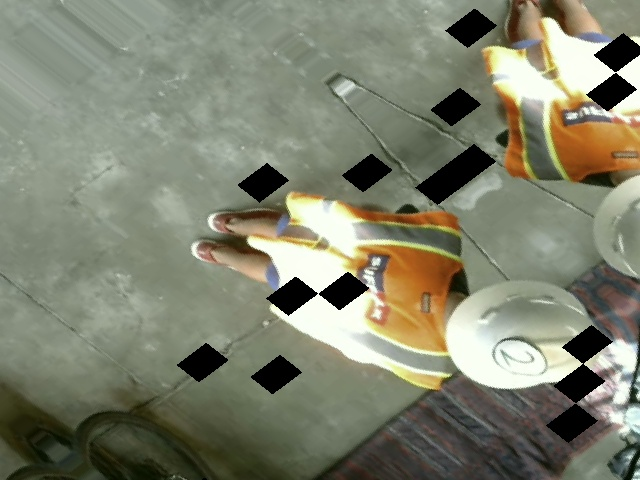two: (481, 331, 555, 388)
